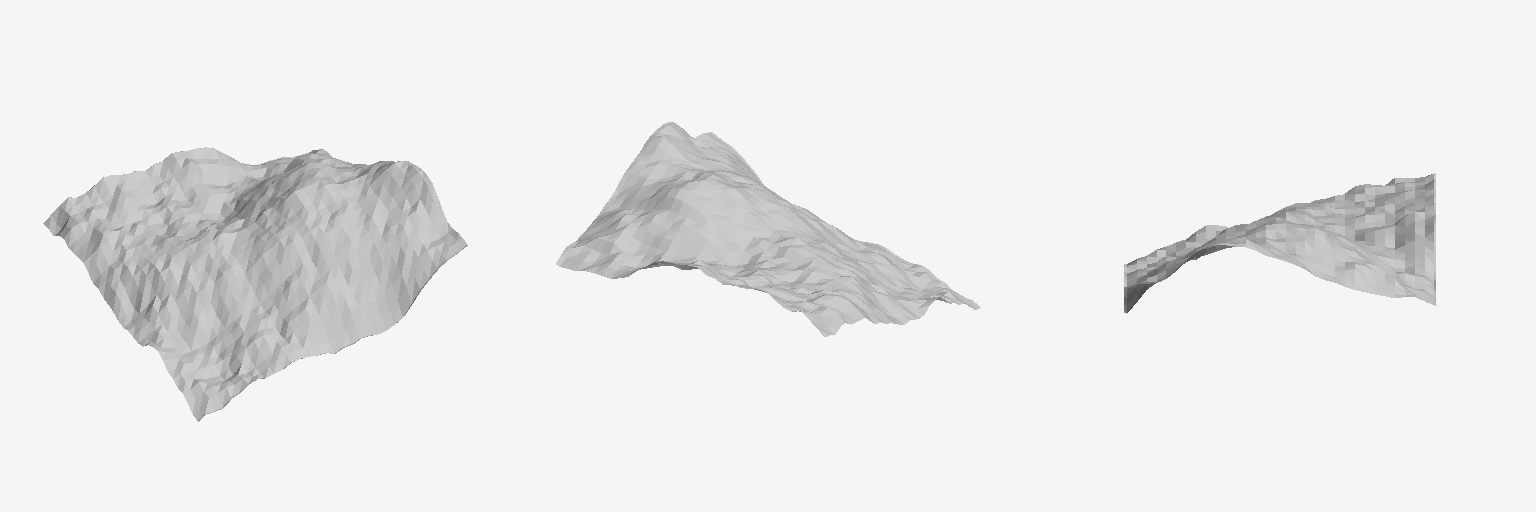
The model's file is heightmap.047.obj.
The picture shows the model from 3 angles: view 1: azimuth 30°, elevation 25°; view 2: azimuth 150°, elevation 25°; view 3: azimuth 270°, elevation 25°; orthographic projection.
Visible parts, largest first — view 1: heightmap.047_Plane.047; view 2: heightmap.047_Plane.047; view 3: heightmap.047_Plane.047.
Boxes of the visible parts, box(x1,y1,x2,y2) form: heightmap.047_Plane.047: box(43, 147, 467, 421); heightmap.047_Plane.047: box(556, 122, 980, 336); heightmap.047_Plane.047: box(1124, 173, 1435, 313).
Bounding box in the file's own units: 32 × 17.36 × 32.